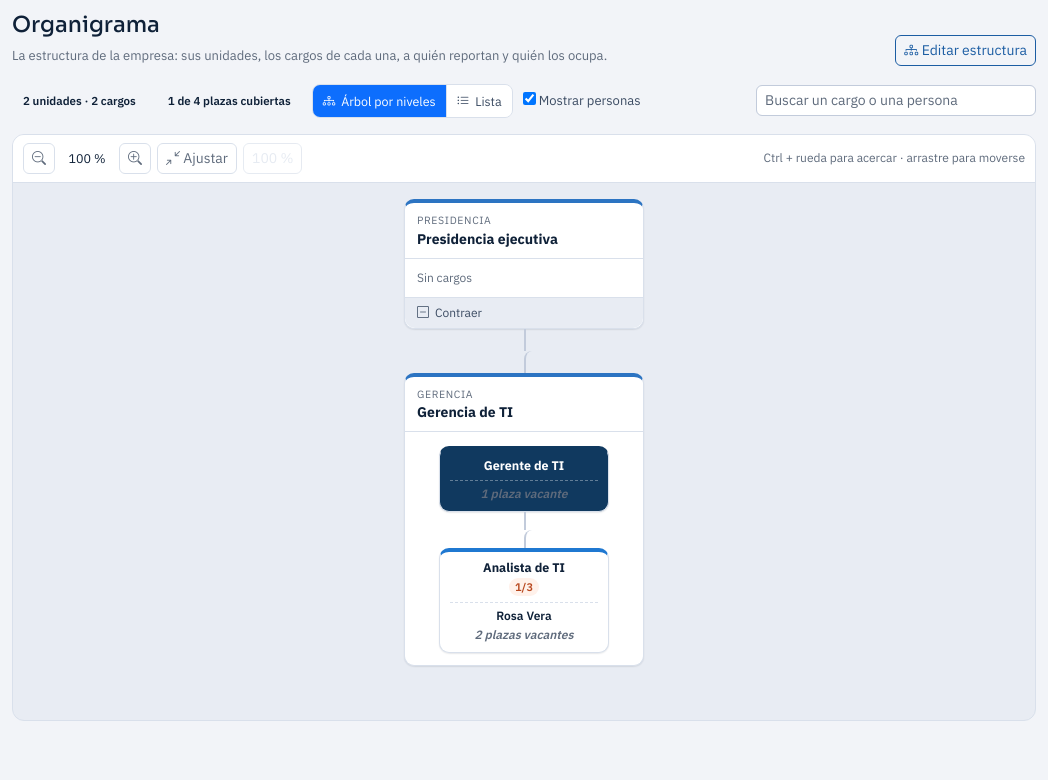
El organigrama › busca un cargo o una persona
Type "rosa" into the search field labelled "Buscar un cargo o una persona" at (896,101), box [756,85,1036,116]
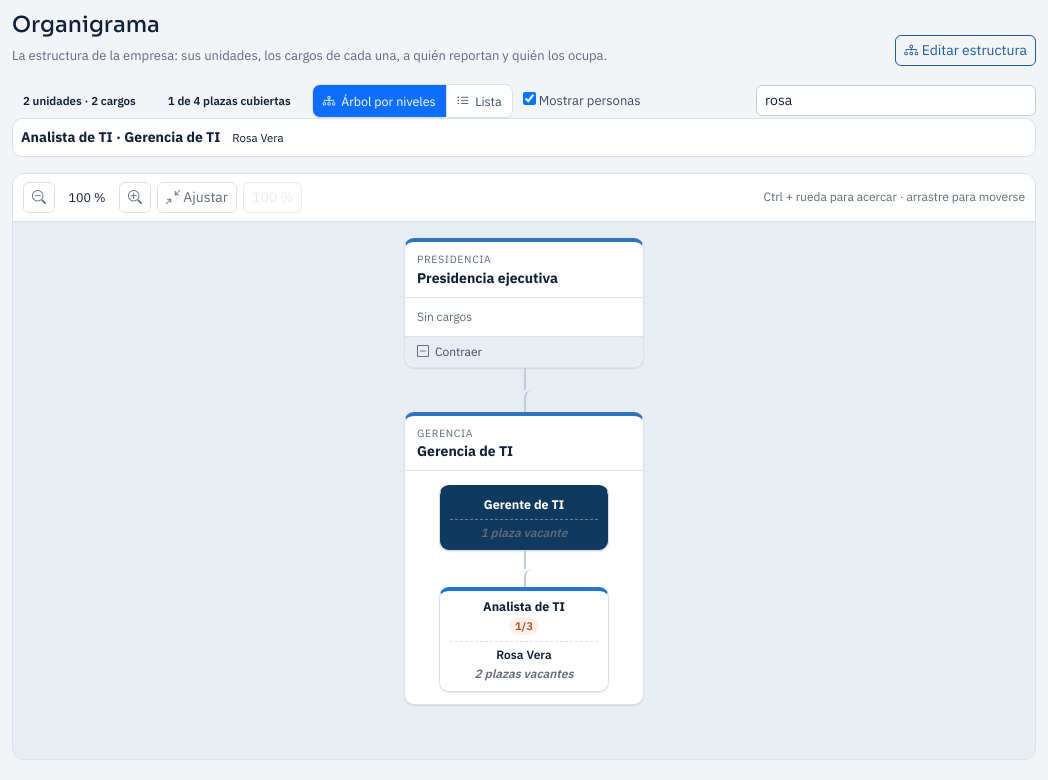
Expected: the text "Analista de TI · Gerencia de TI" is shown, [21,127,220,148]
